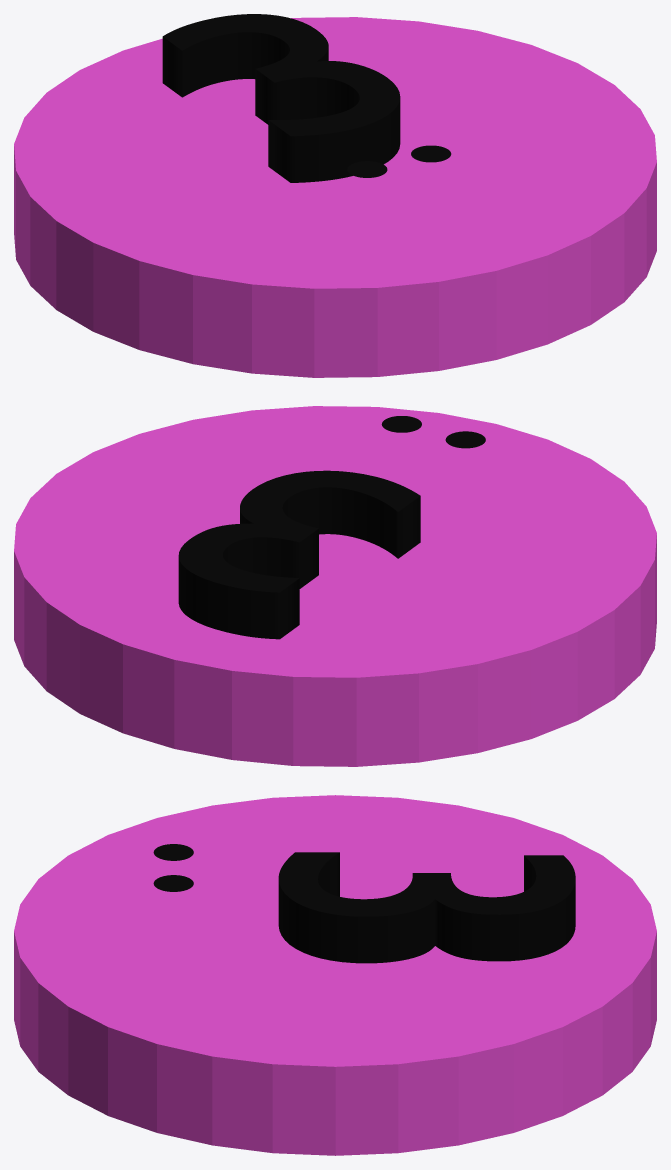
The model's file is three.fbx.
3 renders of one model, top to bottom at view 1: azimuth 30°, elevation 25°; view 2: azimuth 150°, elevation 25°; view 3: azimuth 270°, elevation 25°, orthographic.
Visible parts, largest first — view 1: Circle, Text, Circle.001, Circle.002; view 2: Circle, Text, Circle.002, Circle.001; view 3: Circle, Text, Circle.002, Circle.001.
Part boxes in pixels (x1,y1,x2,y2): Circle: [14, 17, 656, 377]; Text: [162, 14, 400, 182]; Circle.001: [411, 145, 451, 162]; Circle.002: [347, 161, 387, 177]; Circle: [14, 406, 656, 766]; Text: [178, 470, 420, 639]; Circle.002: [445, 431, 485, 448]; Circle.001: [381, 416, 421, 432]; Circle: [14, 795, 656, 1155]; Text: [278, 852, 575, 963]; Circle.002: [153, 844, 193, 860]; Circle.001: [153, 875, 193, 891].
Size of the model in its own units: 200 by 49.27 by 200.
